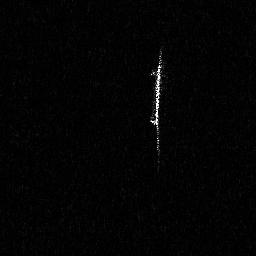ship: (147, 46, 167, 173)
